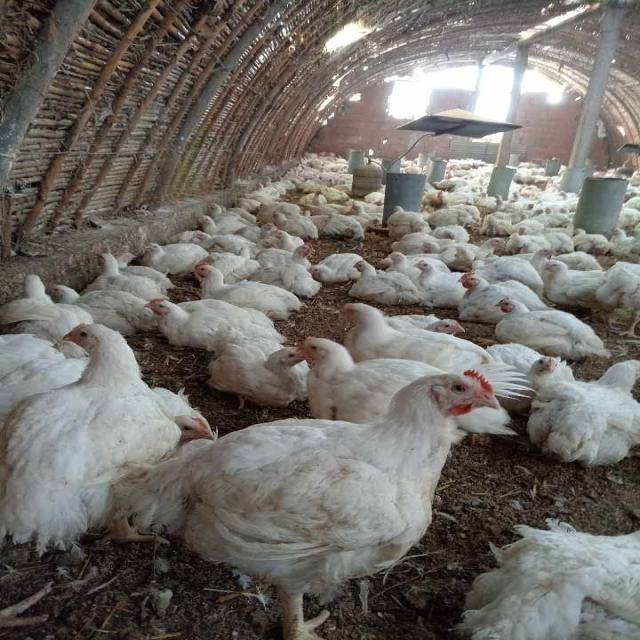Healthy: (134, 350, 509, 614), (15, 320, 182, 562), (141, 289, 284, 358)
